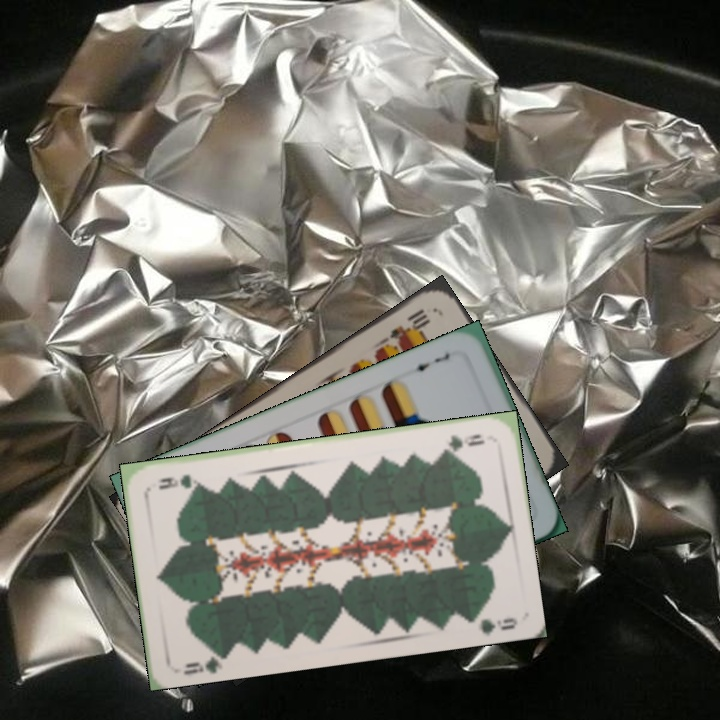E10: (386, 304, 433, 345)
E7: (407, 349, 453, 377)
G9: (180, 646, 230, 678), (436, 430, 488, 455)
